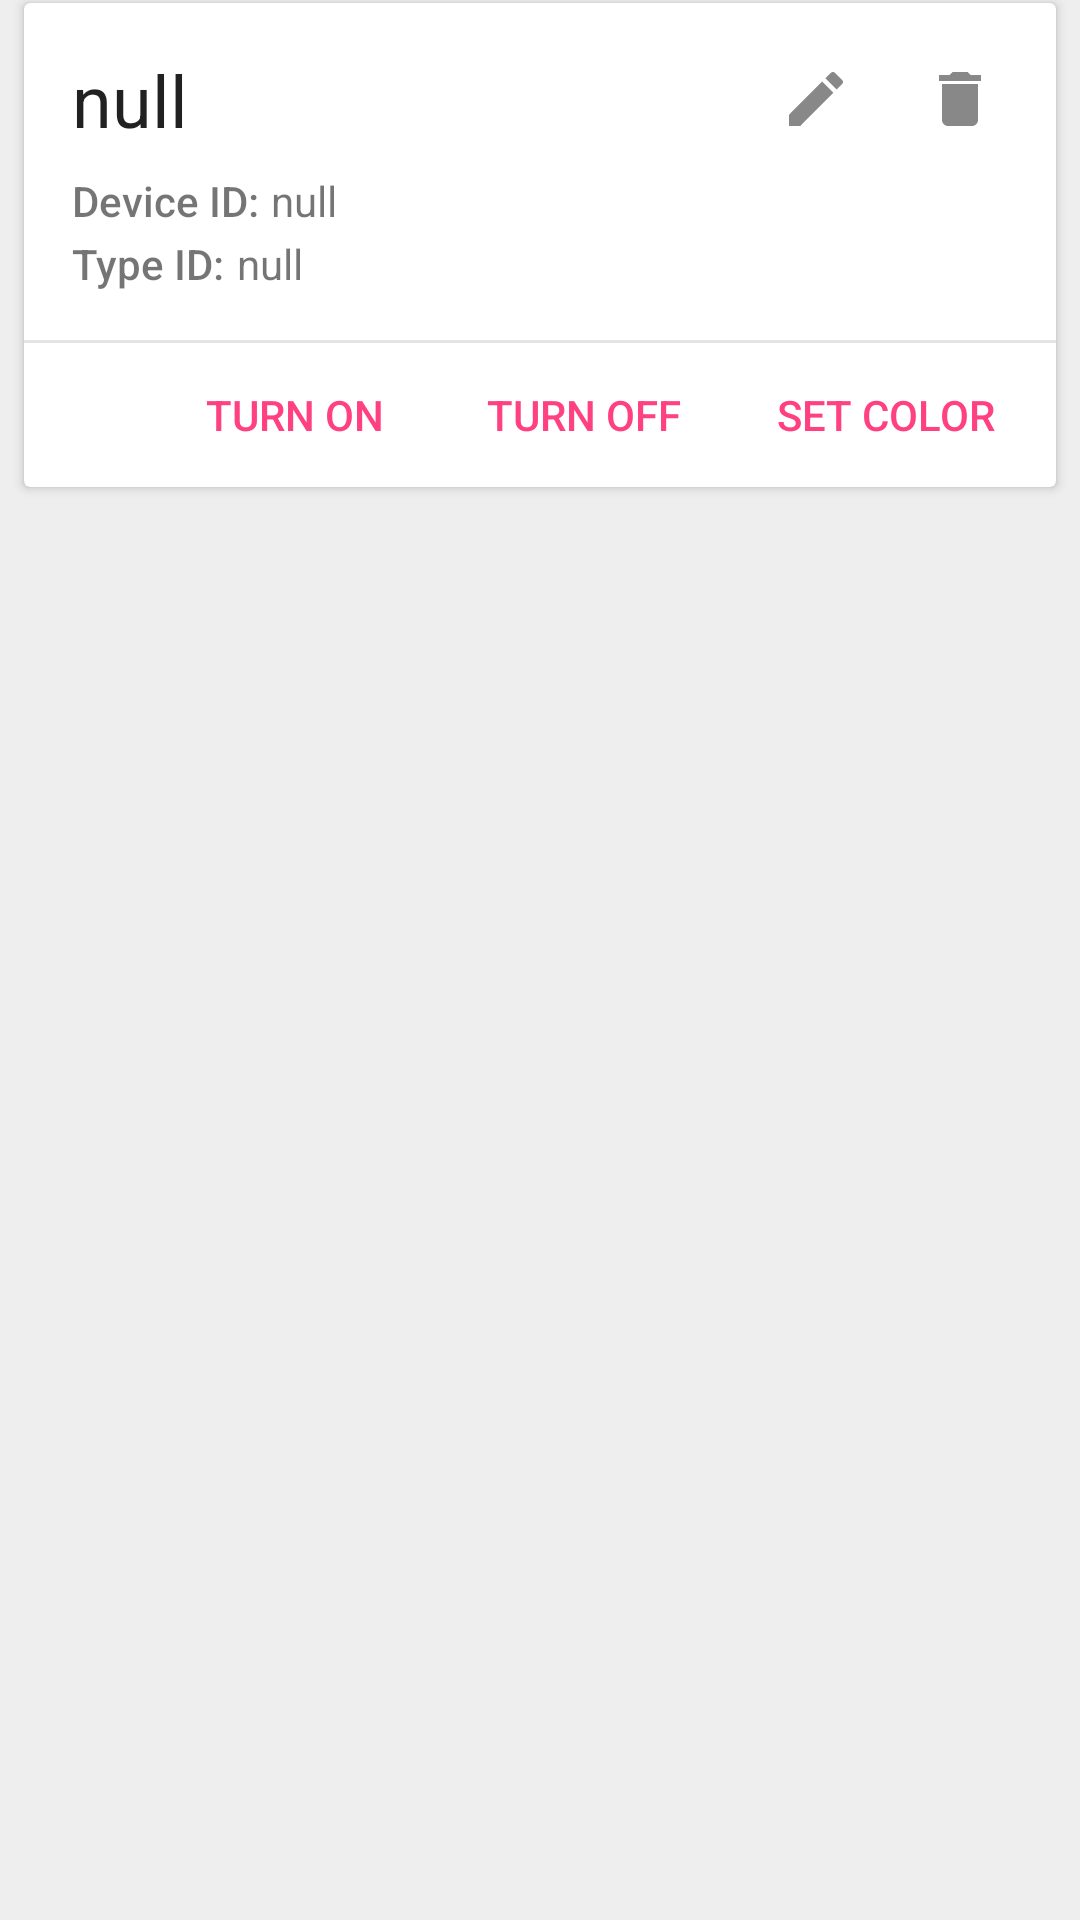

Icon click points for this 1080w x 1920h phone screenshot, format (x,y):
edit: (816,99)
